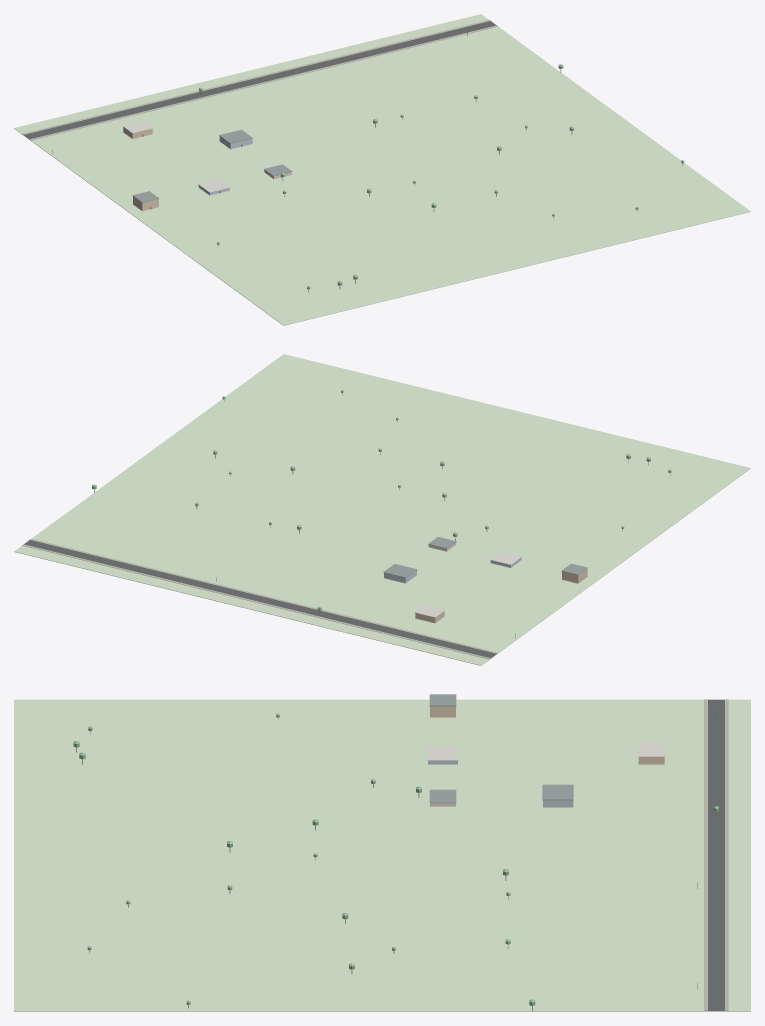
File: chunk_6_2_low.glb
3 renders of one model, top to bottom at view 1: azimuth 30°, elevation 25°; view 2: azimuth 150°, elevation 25°; view 3: azimuth 270°, elevation 25°, orthographic. The views are drawn at different scales.
Parts seen in each view (by area): view 1: city_grass, city_world_asphalt, city_world_sidewalk, city_curb, city_roof_slate; view 2: city_grass, city_world_asphalt, city_world_sidewalk, city_roof_slate, city_curb; view 3: city_grass, city_world_asphalt, city_world_sidewalk, city_roof_slate, city_roof_tile, city_foliage_dark, city_curb.
Boxes of the visible parts, x1,y1,x2,y2 form: city_grass: [14, 14, 750, 325]; city_world_asphalt: [24, 21, 496, 139]; city_world_sidewalk: [22, 20, 497, 140]; city_curb: [23, 20, 496, 139]; city_roof_slate: [132, 129, 292, 202]; city_grass: [14, 354, 750, 665]; city_world_asphalt: [24, 540, 496, 658]; city_world_sidewalk: [22, 538, 497, 659]; city_roof_slate: [383, 537, 587, 577]; city_curb: [25, 539, 496, 657]; city_grass: [14, 699, 750, 1011]; city_world_asphalt: [708, 699, 724, 1010]; city_world_sidewalk: [704, 699, 728, 1010]; city_roof_slate: [429, 694, 573, 802]; city_roof_tile: [427, 742, 664, 760]; city_foliage_dark: [73, 713, 718, 1005]; city_curb: [707, 699, 725, 1010].
Size of the model in its own units: 514 by 9.93 by 512.
